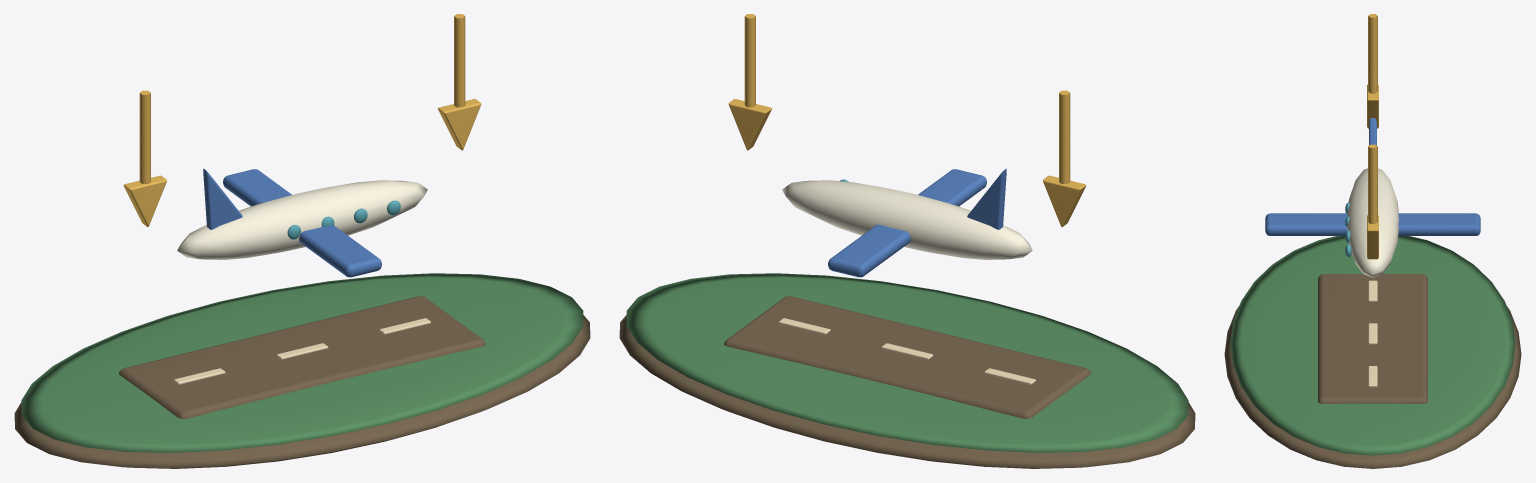
The model's file is plane-landing.glb.
3 renders of one model, left to right at view 1: azimuth 30°, elevation 25°; view 2: azimuth 150°, elevation 25°; view 3: azimuth 270°, elevation 25°, orthographic. The views are drawn at different scales.
Visible parts, largest first — view 1: plane-landing_surface_01, plane-landing_surface_00, plane-landing_surface_03, plane-landing_surface_04, plane-landing_surface_02, plane-landing_surface_06, plane-landing_surface_05; view 2: plane-landing_surface_01, plane-landing_surface_00, plane-landing_surface_03, plane-landing_surface_04, plane-landing_surface_02, plane-landing_surface_06; view 3: plane-landing_surface_01, plane-landing_surface_00, plane-landing_surface_04, plane-landing_surface_03, plane-landing_surface_02, plane-landing_surface_06.
Boxes of the visible parts, x1,y1,x2,y2 form: plane-landing_surface_01: [21, 273, 583, 452]; plane-landing_surface_00: [14, 296, 590, 468]; plane-landing_surface_03: [177, 180, 427, 259]; plane-landing_surface_04: [203, 168, 381, 277]; plane-landing_surface_02: [123, 14, 481, 226]; plane-landing_surface_06: [174, 318, 430, 384]; plane-landing_surface_05: [287, 200, 400, 239]; plane-landing_surface_01: [626, 273, 1188, 452]; plane-landing_surface_00: [619, 296, 1195, 468]; plane-landing_surface_03: [782, 180, 1032, 259]; plane-landing_surface_04: [828, 168, 1006, 277]; plane-landing_surface_02: [728, 14, 1086, 226]; plane-landing_surface_06: [779, 318, 1035, 384]; plane-landing_surface_01: [1230, 236, 1515, 455]; plane-landing_surface_00: [1224, 274, 1521, 468]; plane-landing_surface_04: [1265, 118, 1480, 235]; plane-landing_surface_03: [1347, 168, 1398, 277]; plane-landing_surface_02: [1367, 14, 1378, 259]; plane-landing_surface_06: [1368, 280, 1377, 387].
Size of the model in its own units: 4.56 by 2.67 by 2.5.
